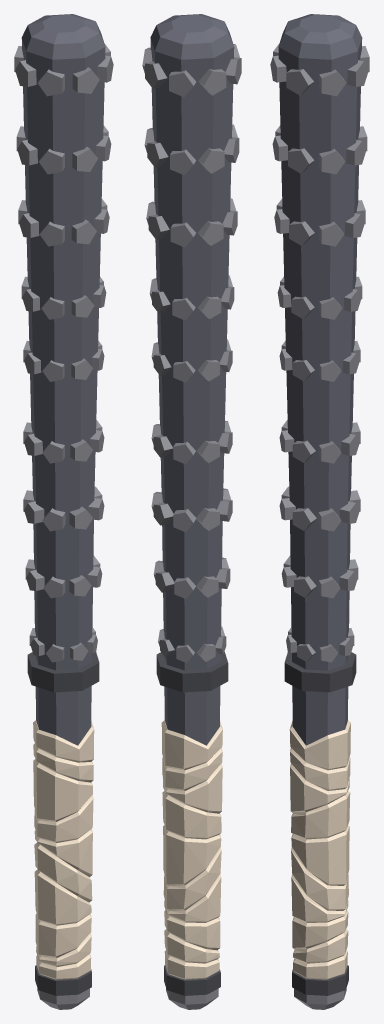
Rendered from _hammer_13.fbx.
3 renders of one model, left to right at view 1: azimuth 30°, elevation 25°; view 2: azimuth 210°, elevation 25°; view 3: azimuth 330°, elevation 25°, orthographic.
Parts seen in each view (by area): view 1: hammer_13; view 2: hammer_13; view 3: hammer_13.
Boxes of the visible parts, x1=… form: hammer_13: x1=14, y1=14, x2=113, y2=1009; hammer_13: x1=142, y1=14, x2=241, y2=1009; hammer_13: x1=270, y1=14, x2=369, y2=1009.
Size of the model in its own units: 7.17 by 80.92 by 7.17.
